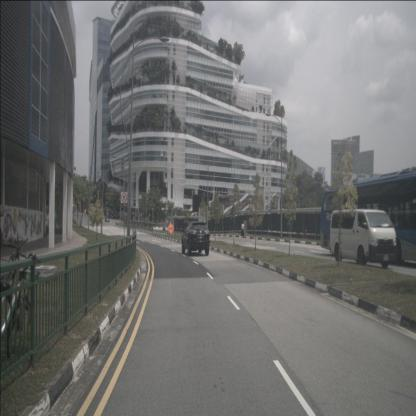human-pedestrian-adult: (240, 221, 244, 242)
vehicle-bicycle: (0, 240, 42, 365)
vehicle-bus-rigid: (320, 166, 416, 267)
vehicle-car: (329, 209, 398, 268), (181, 222, 210, 256)
